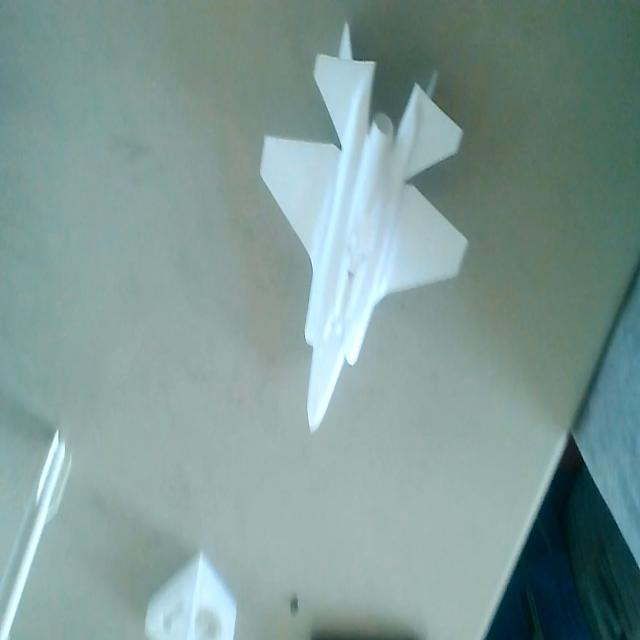Jet: (254, 17, 470, 435)
Rocket: (0, 406, 76, 640)
